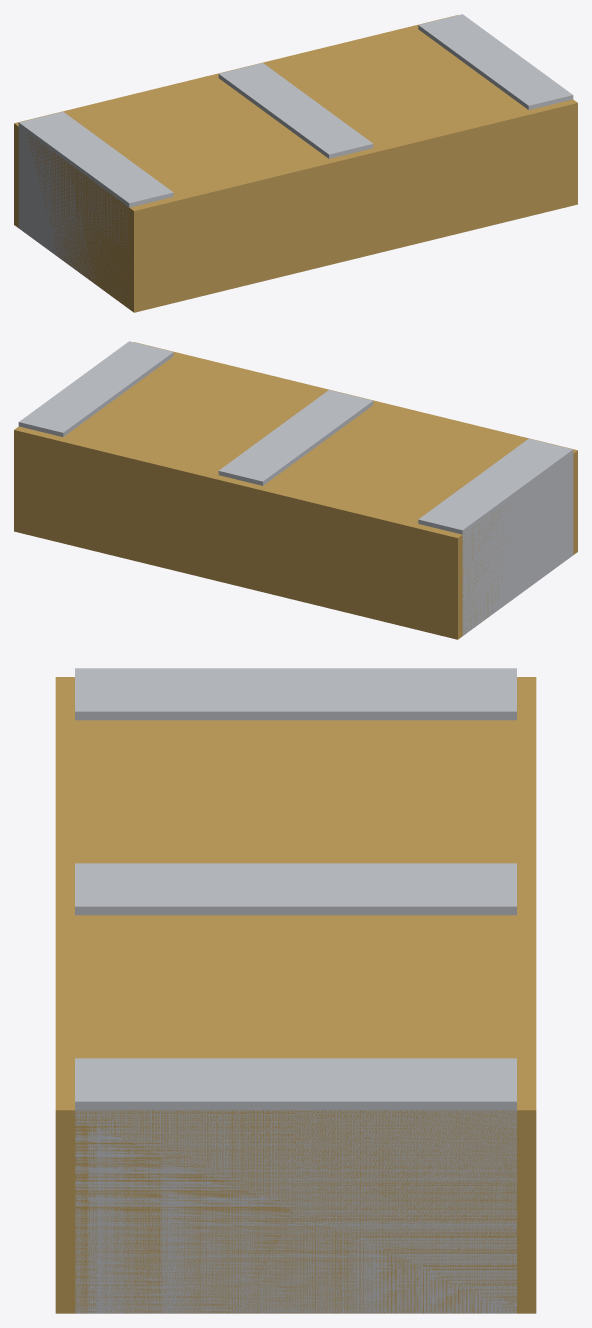
The model's file is resonator-cstce.source.glb.
3 views of the same model, one above another, from view 1: azimuth 30°, elevation 25°; view 2: azimuth 150°, elevation 25°; view 3: azimuth 270°, elevation 25° (orthographic). The views are drawn at different scales.
Visible parts, largest first — view 1: body, lead-1, lead-2, lead-3; view 2: body, lead-1, lead-2, lead-3; view 3: body, lead-3, lead-1, lead-2.
Boxes of the visible parts, x1,y1,x2,y2 form: body: (14,15,577,312); lead-1: (18,111,173,304); lead-2: (218,63,373,158); lead-3: (418,14,573,109); body: (14,342,577,639); lead-1: (418,438,573,635); lead-2: (218,390,373,485); lead-3: (18,341,173,436); body: (55,677,536,1313); lead-3: (75,1058,516,1313); lead-1: (75,668,516,720); lead-2: (75,863,516,915).
Size of the model in its own units: 0.0032 by 0.00073 by 0.0015.
